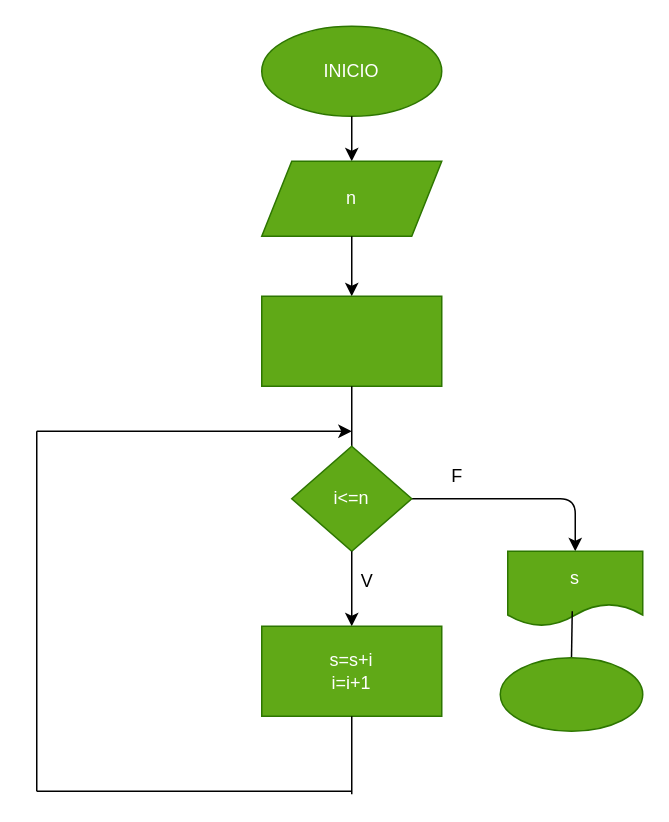
This 669x822 diagram has some shape labels left out. Each missing label, with the box of its shape:
FIN: (499, 656, 643, 731)
s=0 i=1: (260, 295, 442, 386)
